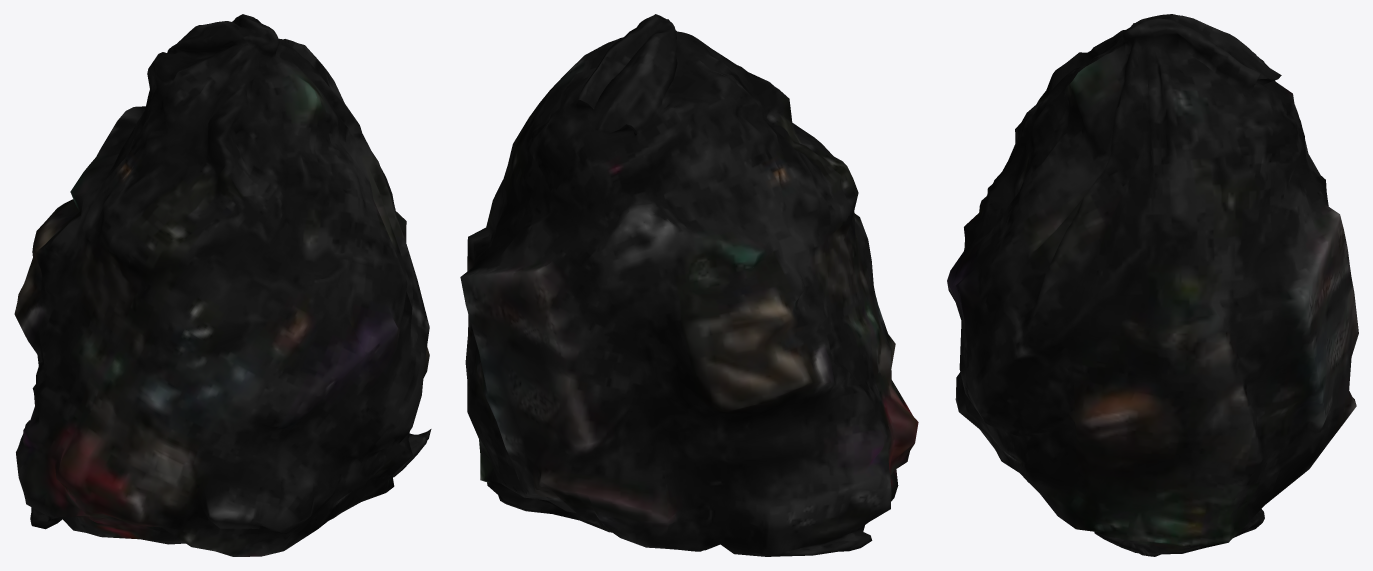
File: trashbag.glb
3 views of the same model, side by side, from view 1: azimuth 30°, elevation 25°; view 2: azimuth 150°, elevation 25°; view 3: azimuth 270°, elevation 25° (orthographic). The views are drawn at different scales.
Parts seen in each view (by area): view 1: trashbag; view 2: trashbag; view 3: trashbag.
Boxes of the visible parts, x1=… form: trashbag: x1=14, y1=14, x2=431, y2=556; trashbag: x1=460, y1=14, x2=918, y2=556; trashbag: x1=947, y1=14, x2=1358, y2=556.
Bounding box in the file's own units: 0.528 × 0.575 × 0.4629.
Materials: 1 (1 with a texture image).
